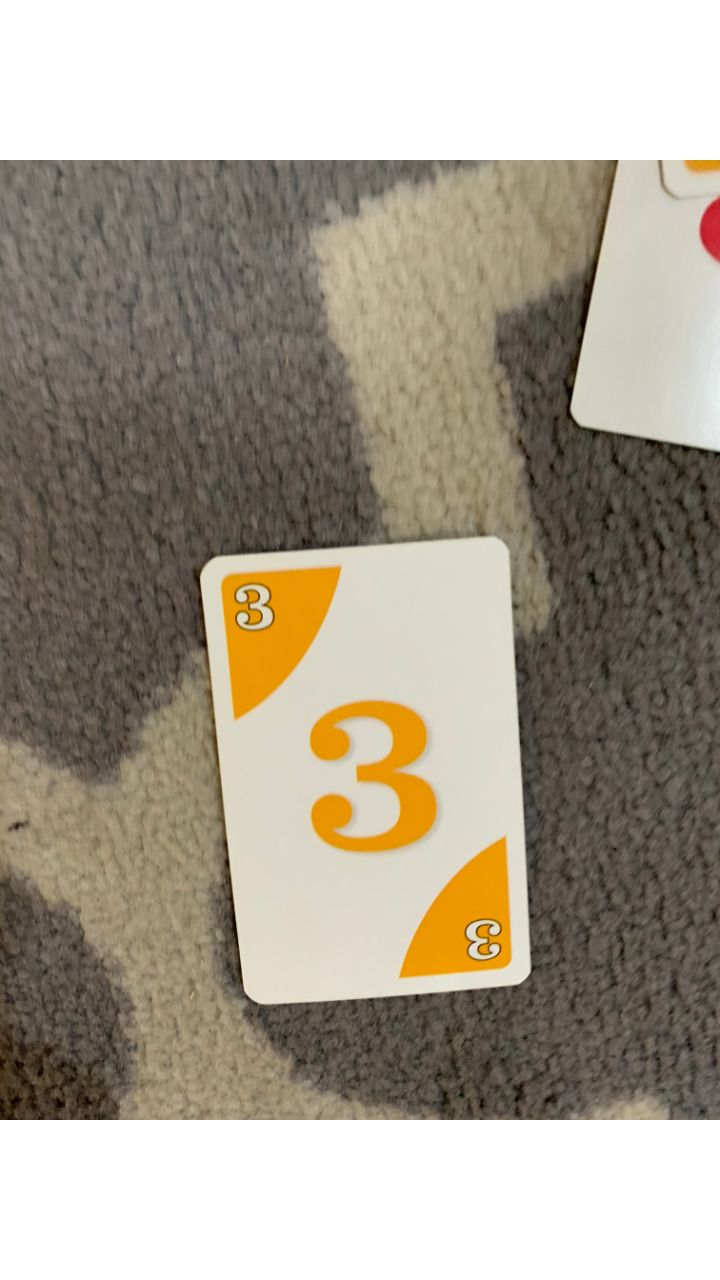three: (197, 537, 533, 1004)
